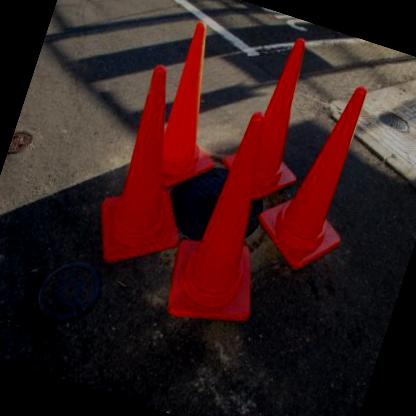cone: (158, 100, 312, 339), (86, 61, 230, 282), (245, 68, 390, 280), (215, 26, 339, 214), (138, 17, 256, 198)
